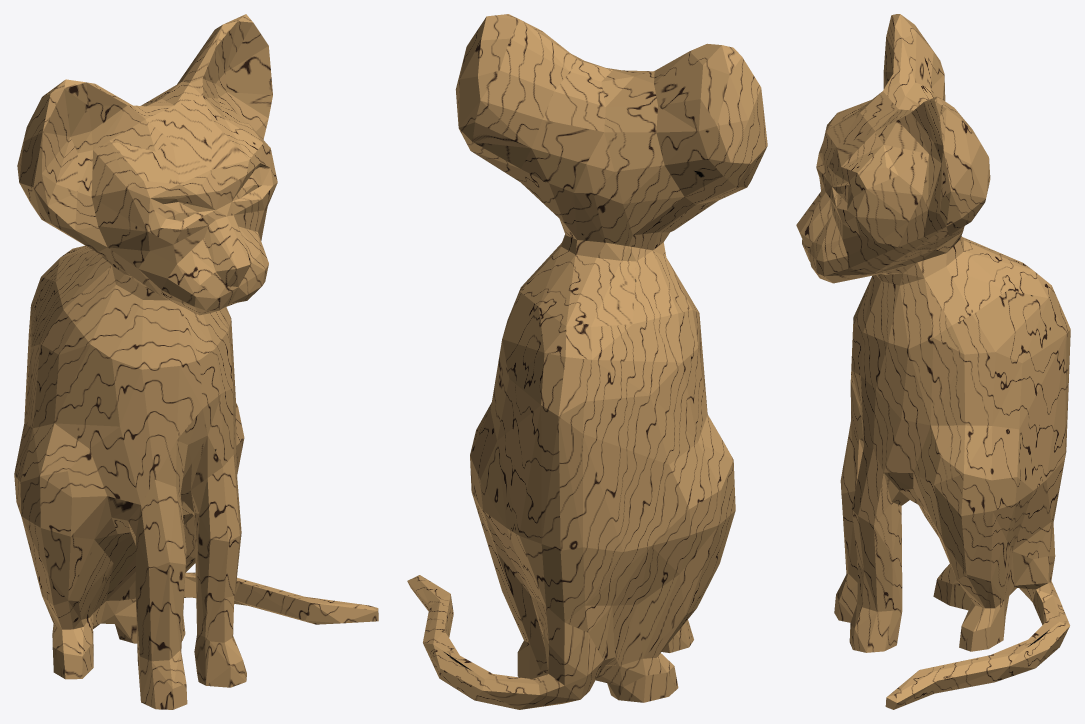
The model's file is Cat_Figurine.fbx.
3 views of the same model, side by side, from view 1: azimuth 30°, elevation 25°; view 2: azimuth 150°, elevation 25°; view 3: azimuth 270°, elevation 25° (orthographic). The views are drawn at different scales.
Parts seen in each view (by area): view 1: cat_figure; view 2: cat_figure; view 3: cat_figure.
Part boxes in pixels (<box>): cat_figure: <box>14,14,378,709</box>; cat_figure: <box>407,14,767,709</box>; cat_figure: <box>796,14,1070,709</box>.
Size of the model in its own units: 270 by 459 by 202.
1 material, 1 textured.
